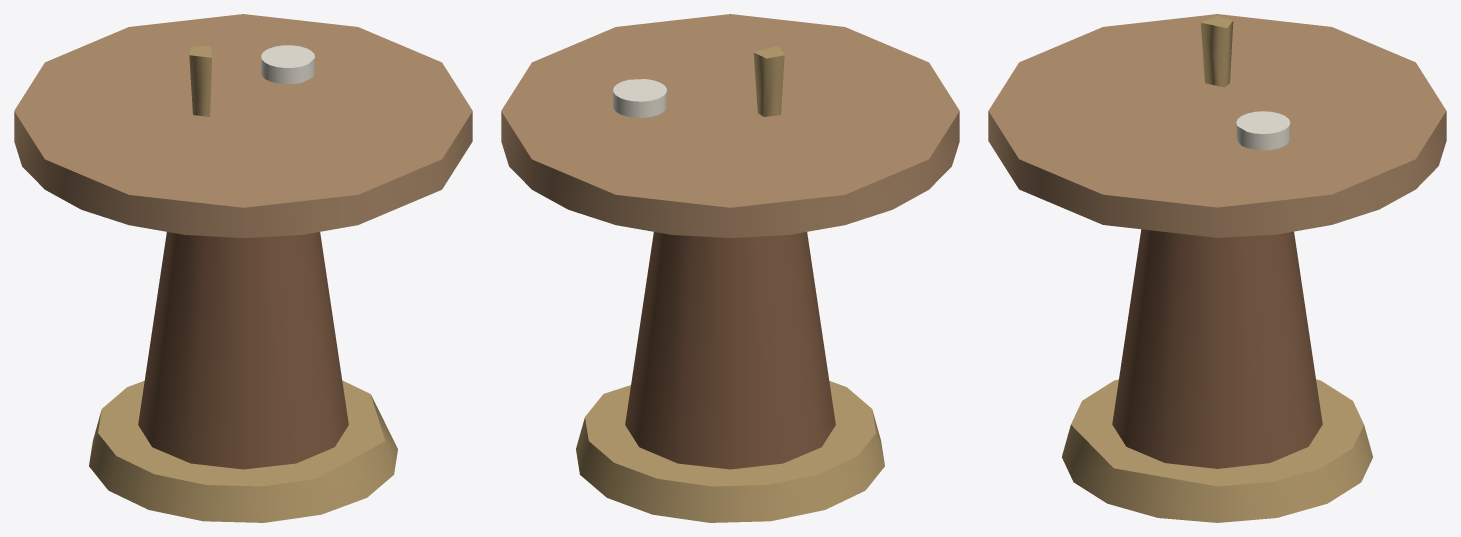
Rendered from table-4-1.lod.glb.
3 renders of one model, left to right at view 1: azimuth 30°, elevation 25°; view 2: azimuth 150°, elevation 25°; view 3: azimuth 270°, elevation 25°, orthographic.
Visible parts, largest first — view 1: part (×4); view 2: part (×4); view 3: part (×4).
Part boxes in pixels (x1,y1,x2,y2): part (×4): (14,14,472,522); part (×4): (501,14,959,522); part (×4): (988,14,1446,522).
Bounding box in the file's own units: 1 × 1 × 1.
